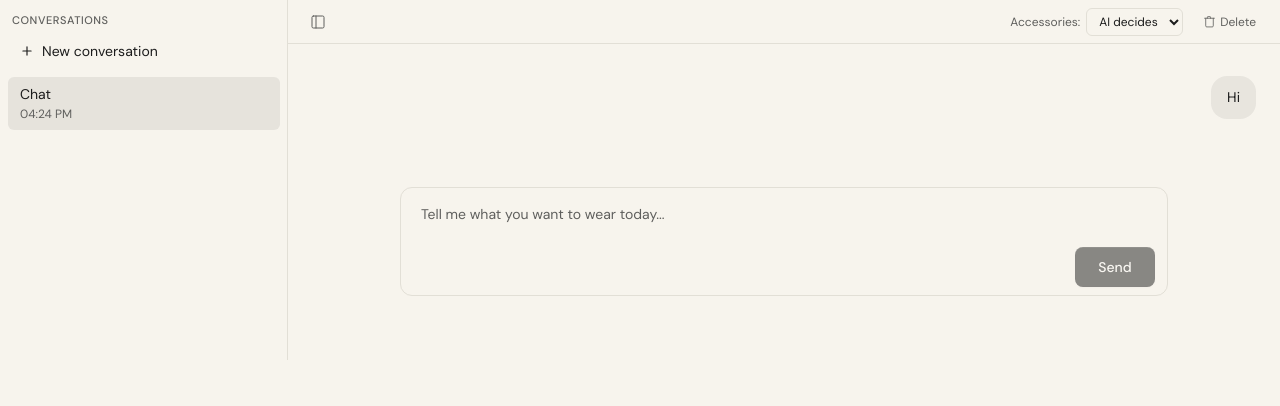
Scenario: ChatPage › accessory mode sync › reverts the dropdown and shows a generic error when the mode API fails
Select "Exclude" in the dropdown labelled "Accessories:": [1135, 22] box [1086, 8, 1183, 36]
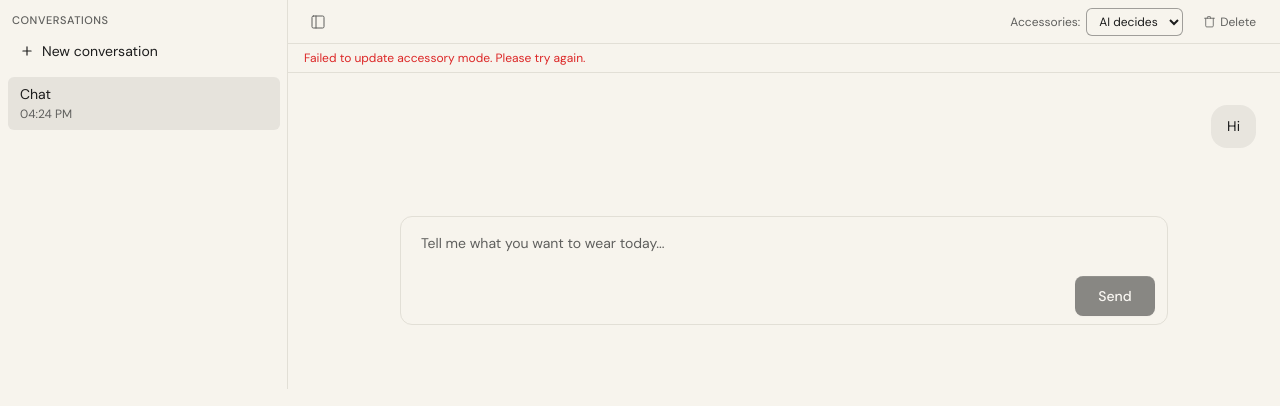
Check: the text "Failed to update accessory mode. Please try again." is shown, box [304, 50, 586, 66]
